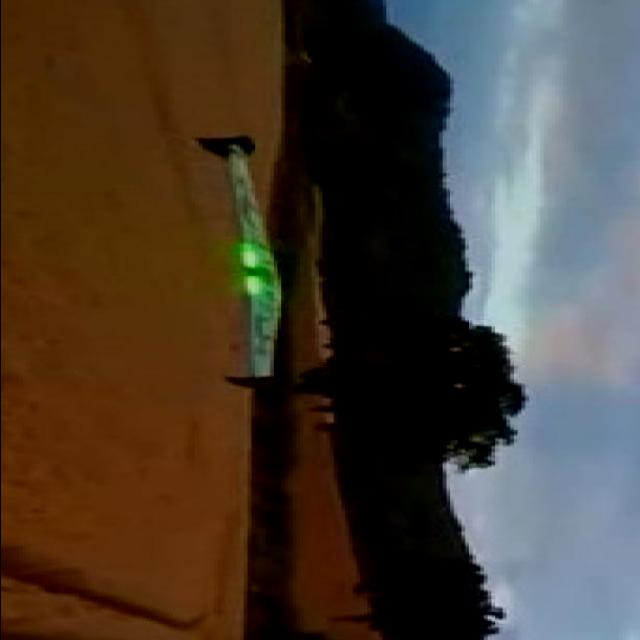plane: (192, 131, 286, 390)
